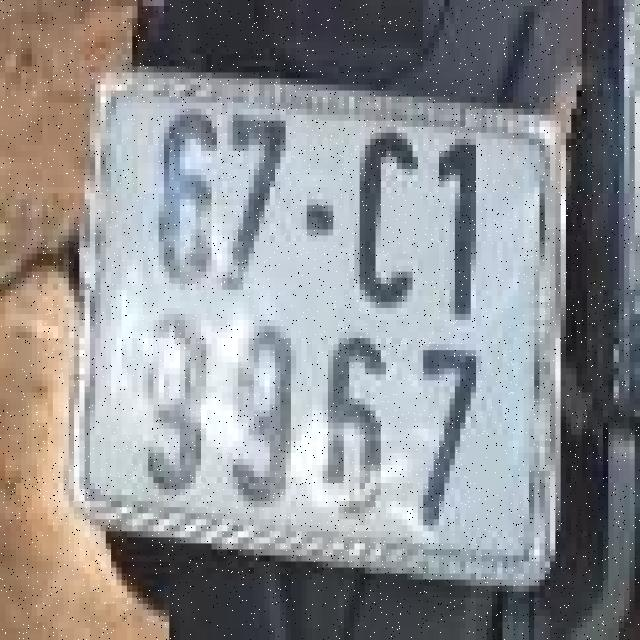1: (431, 124, 495, 335)
6: (312, 317, 397, 528), (150, 103, 220, 302)
7: (415, 326, 500, 574), (214, 109, 294, 308)
9: (127, 314, 212, 495), (224, 317, 294, 516)
C: (342, 112, 436, 323)
